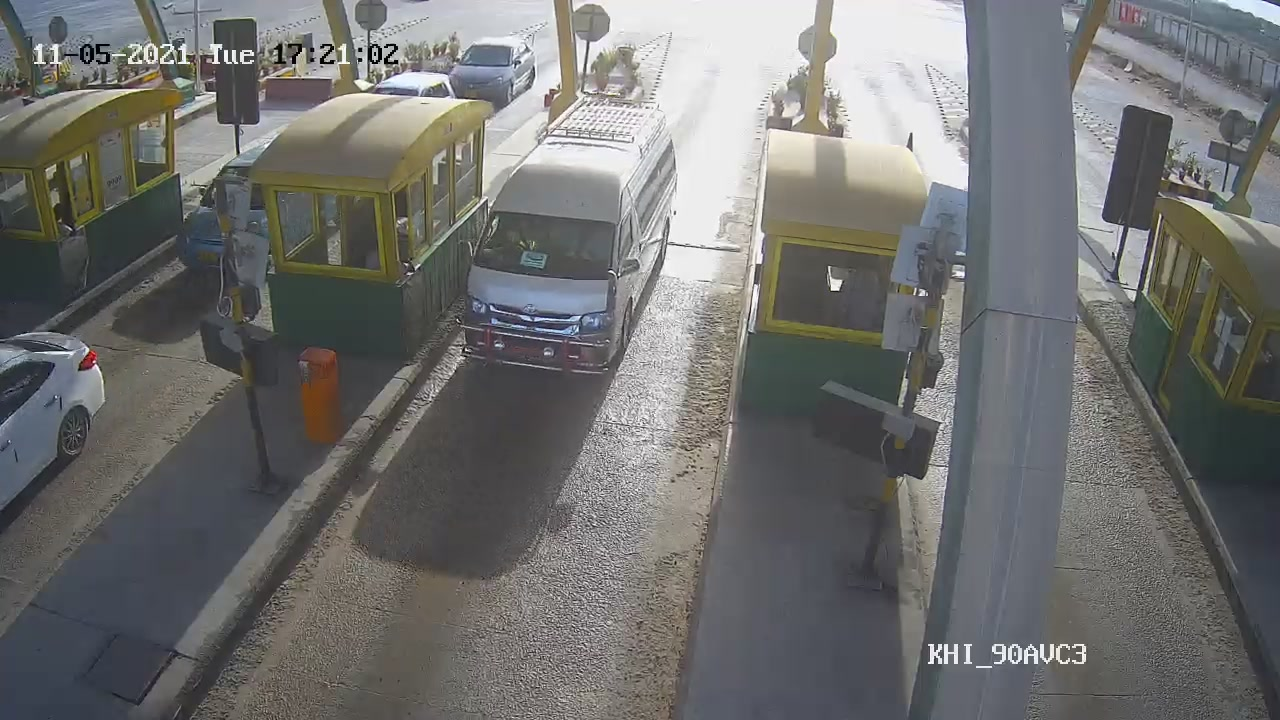F2: (449, 96, 681, 373)
